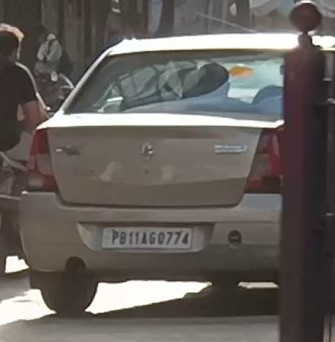PB11AG0774: (101, 226, 192, 250)
